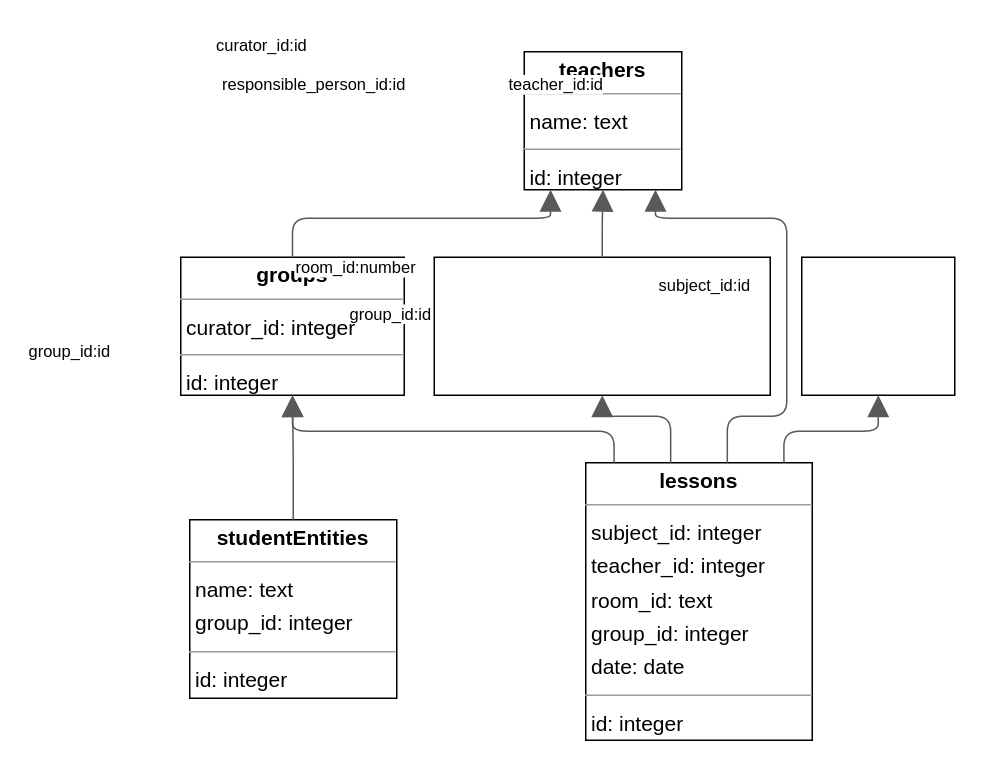
Some shapes in this 981 by 767 pixel diagram are drawn without their labels. Here are the shapes that lost their labels. From the top down, the centre of each, then its label:
At [601,325]: "rooms responsible_person_id: integer number: text".
At [877,325]: "subjects name: text id: integer".
